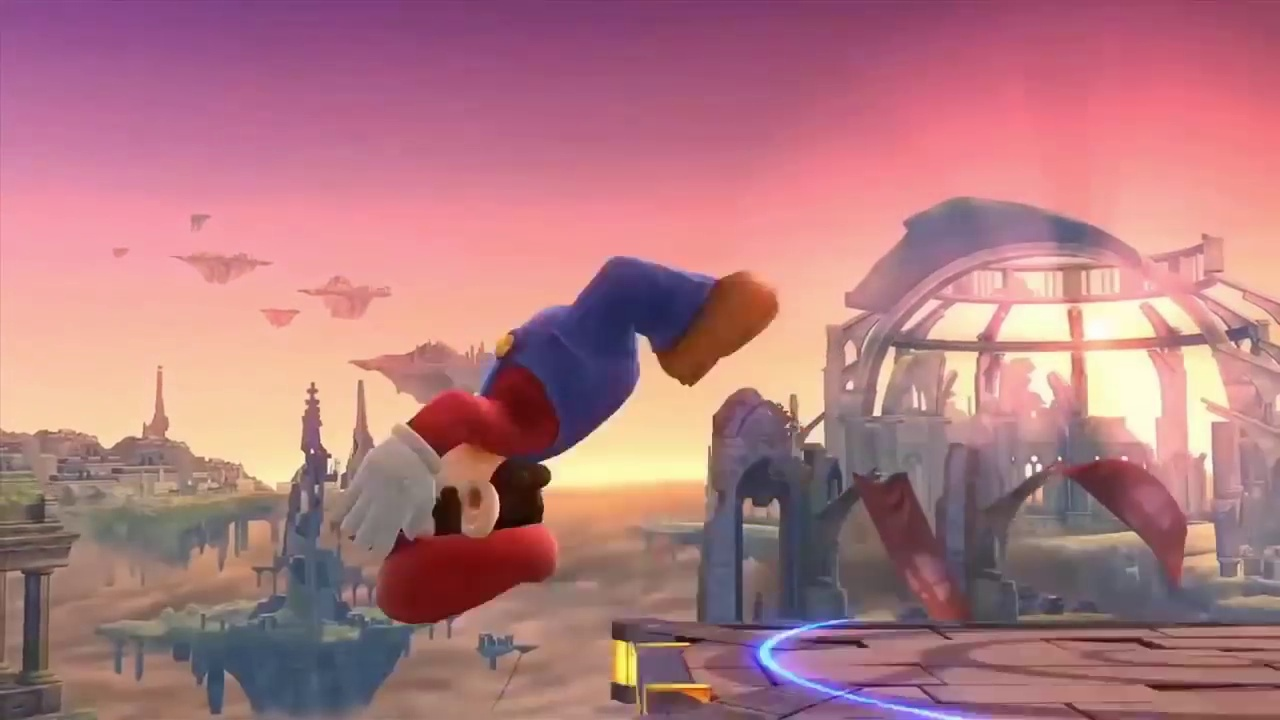Mario: (340, 253, 780, 625)
